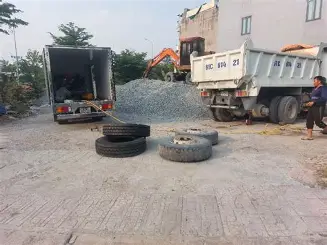ROAD_OBSTACLE: (95, 120, 150, 155), (158, 128, 212, 160), (175, 122, 218, 143)
